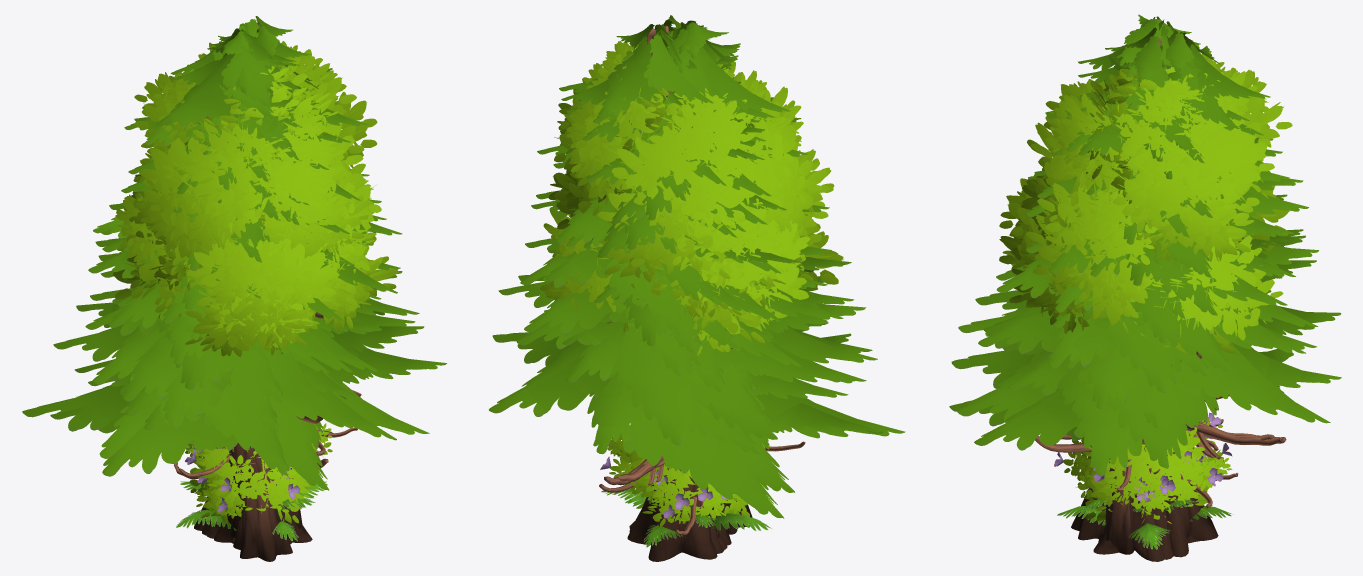
The model's file is nature.glb.
3 renders of one model, left to right at view 1: azimuth 30°, elevation 25°; view 2: azimuth 150°, elevation 25°; view 3: azimuth 270°, elevation 25°, orthographic. The views are drawn at different scales.
Visible parts, largest first — view 1: nat_oak1_Leaves_NormalTree, nat_pine2_Leaves_Pine, nat_pine5_Leaves_Pine, nat_pine1_Leaves_Pine, nat_oak5_Leaves_NormalTree, nat_oak4_Leaves_NormalTree, nat_oak2_Leaves_NormalTree, nat_pine4_Leaves_Pine, nat_bush1_Leaves_NormalTree, nat_pine3_Leaves_Pine, nat_pine5_Bark_NormalTree, nat_fern1_Leaves (+3 smaller); view 2: nat_pine2_Leaves_Pine, nat_pine5_Leaves_Pine, nat_oak1_Leaves_NormalTree, nat_pine1_Leaves_Pine, nat_oak2_Leaves_NormalTree, nat_oak5_Leaves_NormalTree, nat_pine4_Leaves_Pine, nat_pine3_Leaves_Pine, nat_bush1_Leaves_NormalTree, nat_oak2_Bark_NormalTree, nat_oak4_Leaves_NormalTree, nat_oak3_Leaves_NormalTree (+2 smaller); view 3: nat_pine2_Leaves_Pine, nat_pine5_Leaves_Pine, nat_oak2_Leaves_NormalTree, nat_oak1_Leaves_NormalTree, nat_pine1_Leaves_Pine, nat_oak5_Leaves_NormalTree, nat_pine3_Leaves_Pine, nat_bush1_Leaves_NormalTree, nat_oak4_Leaves_NormalTree, nat_pine4_Leaves_Pine, nat_oak2_Bark_NormalTree, nat_pine3_Bark_NormalTree (+7 smaller).
Part boxes in pixels (x1,y1,x2,y2): nat_oak1_Leaves_NormalTree: (112,63,398,356); nat_pine2_Leaves_Pine: (22,25,424,476); nat_pine5_Leaves_Pine: (50,16,446,490); nat_pine1_Leaves_Pine: (53,30,402,402); nat_oak5_Leaves_NormalTree: (134,42,381,325); nat_oak4_Leaves_NormalTree: (165,41,343,203); nat_oak2_Leaves_NormalTree: (115,48,376,349); nat_pine4_Leaves_Pine: (88,29,381,432); nat_bush1_Leaves_NormalTree: (185,423,332,524); nat_pine3_Leaves_Pine: (100,26,402,323); nat_pine5_Bark_NormalTree: (233,24,292,561); nat_fern1_Leaves: (176,481,327,541); nat_pine2_Leaves_Pine: (489,22,905,518); nat_pine5_Leaves_Pine: (531,24,882,492); nat_oak1_Leaves_NormalTree: (554,57,843,348); nat_pine1_Leaves_Pine: (516,20,877,432); nat_oak2_Leaves_NormalTree: (539,39,823,349); nat_oak5_Leaves_NormalTree: (593,56,828,356); nat_pine4_Leaves_Pine: (544,20,848,454); nat_pine3_Leaves_Pine: (520,15,827,348); nat_bush1_Leaves_NormalTree: (607,433,769,529); nat_oak2_Bark_NormalTree: (627,348,732,561); nat_oak4_Leaves_NormalTree: (600,41,780,194); nat_oak3_Leaves_NormalTree: (606,53,779,319); nat_pine2_Leaves_Pine: (951,19,1341,468); nat_pine5_Leaves_Pine: (949,29,1341,475); nat_oak2_Leaves_NormalTree: (1011,67,1283,340); nat_oak1_Leaves_NormalTree: (999,67,1289,362); nat_pine1_Leaves_Pine: (975,14,1316,392); nat_oak5_Leaves_NormalTree: (1000,67,1292,308); nat_pine3_Leaves_Pine: (996,27,1294,305); nat_bush1_Leaves_NormalTree: (1063,415,1232,522); nat_oak4_Leaves_NormalTree: (1050,45,1232,221); nat_pine4_Leaves_Pine: (1002,16,1280,428); nat_oak2_Bark_NormalTree: (1164,351,1218,557); nat_pine3_Bark_NormalTree: (1061,38,1218,554).
Bounding box in the file's own units: 3.42 × 4.4 × 3.14.
39 materials, 39 textured.
